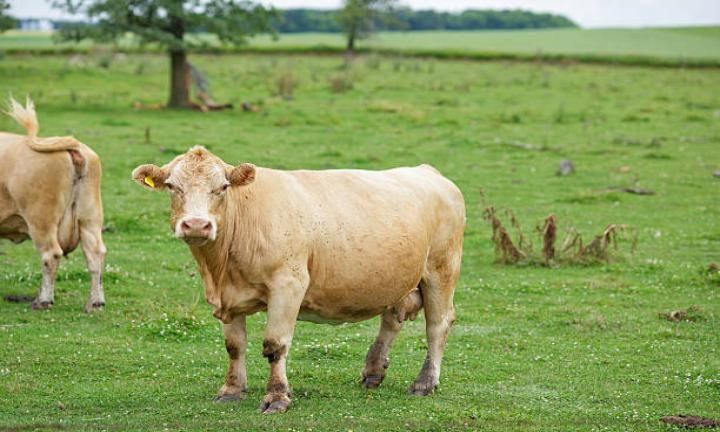Charolais: (132, 147, 464, 411)
